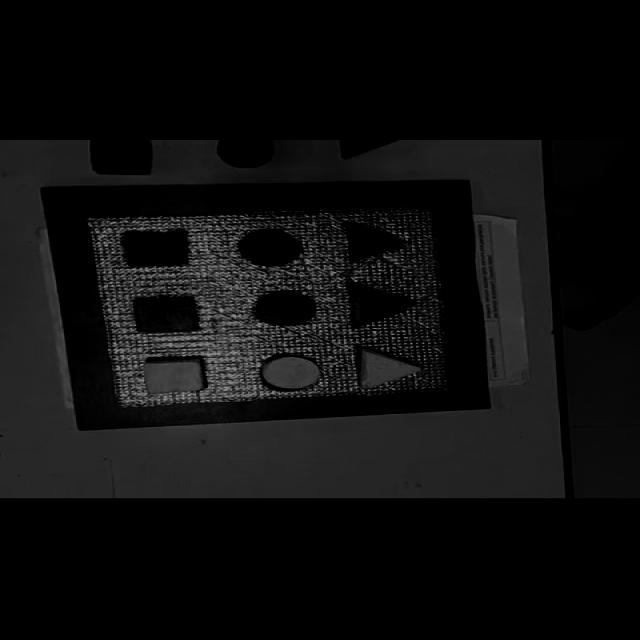bcircle: (218, 140, 274, 168)
bcube: (89, 140, 152, 176)
btriangle: (338, 141, 402, 159)
mtcircle: (237, 230, 303, 268)
mtcube: (121, 230, 190, 268)
mttriangle: (343, 222, 411, 262)
rcircle: (256, 292, 316, 328)
rcube: (132, 296, 200, 334)
rtriangle: (350, 284, 418, 326)
wb: (88, 208, 448, 410)
ycircle: (259, 354, 323, 392)
ycube: (142, 356, 208, 396)
ytriangle: (357, 347, 422, 391)
